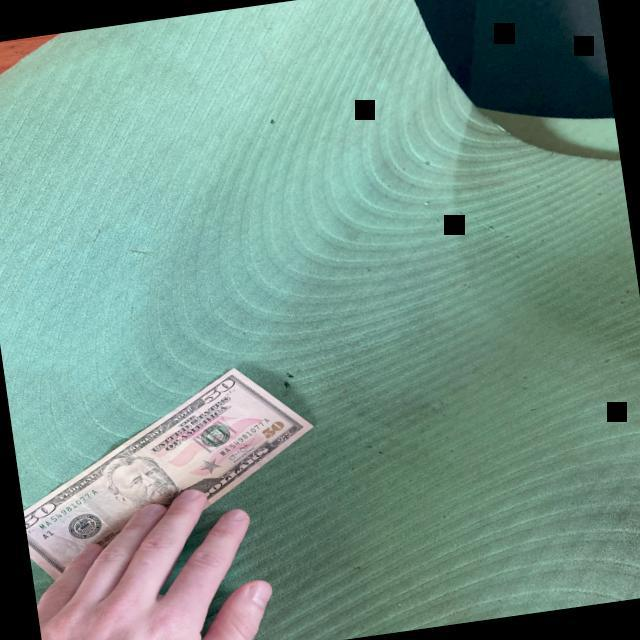fifty: (24, 367, 316, 602)
